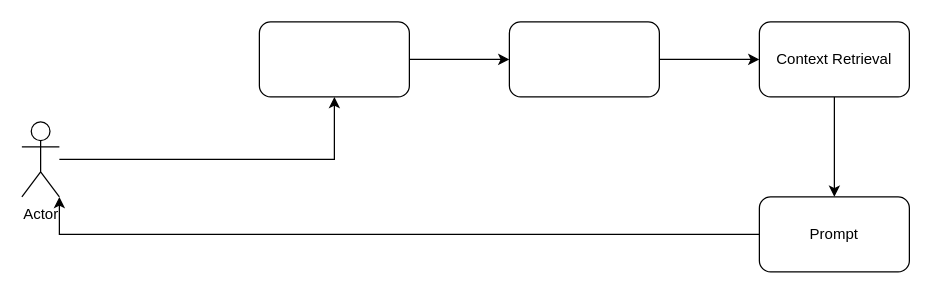
The diagram is 931 pixels wide and 294 high, and some of its shapes have lost their labels. Here are the shapes that lost their labels. From the top down, the centre of each, then its label:
At point (333, 59): "API".
At point (583, 59): "Add to memory".
